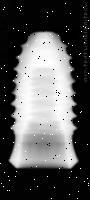Cowellmedi: (8, 29, 78, 169)
